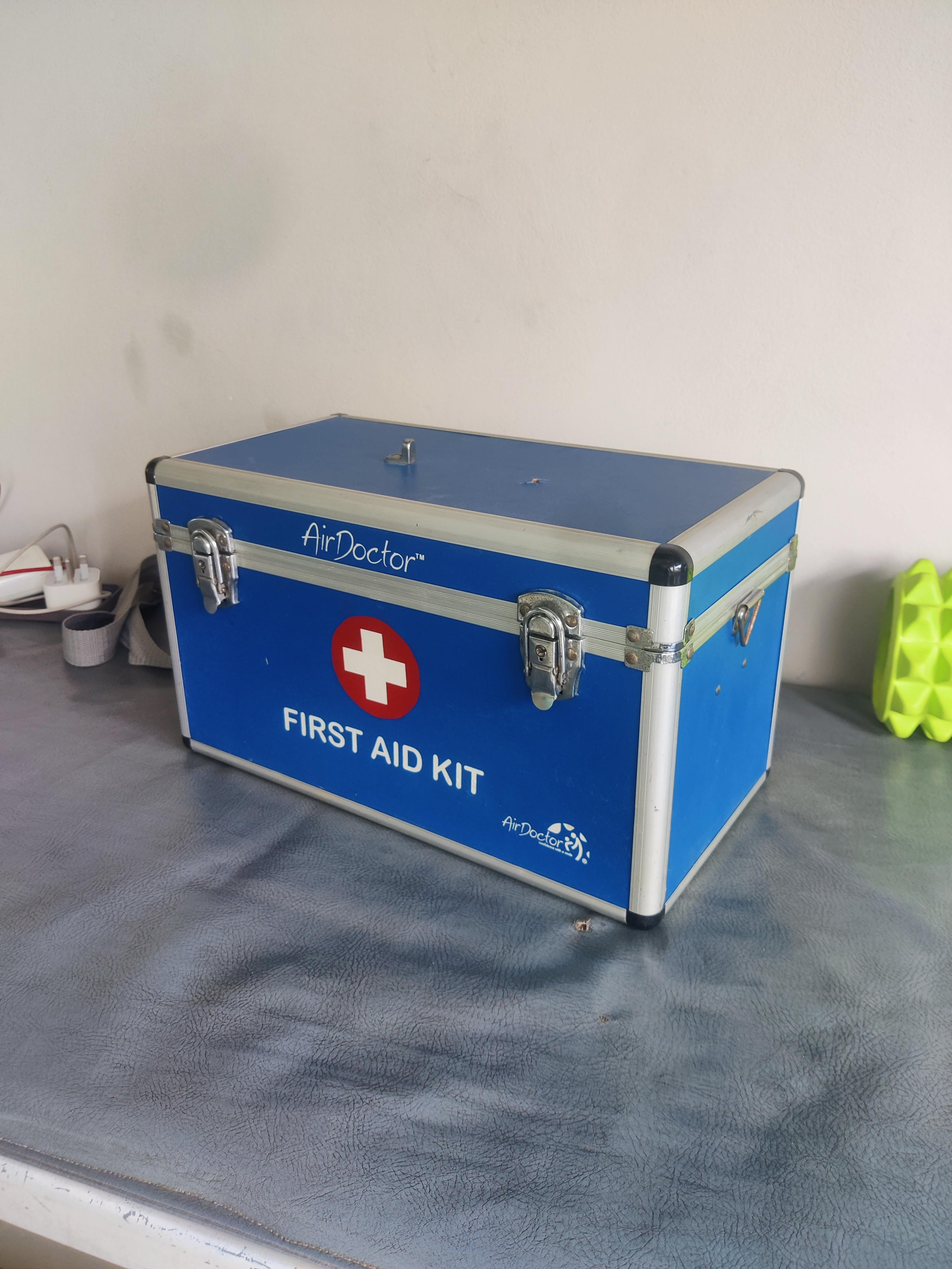FirstAidBox: (109, 382, 824, 983)
